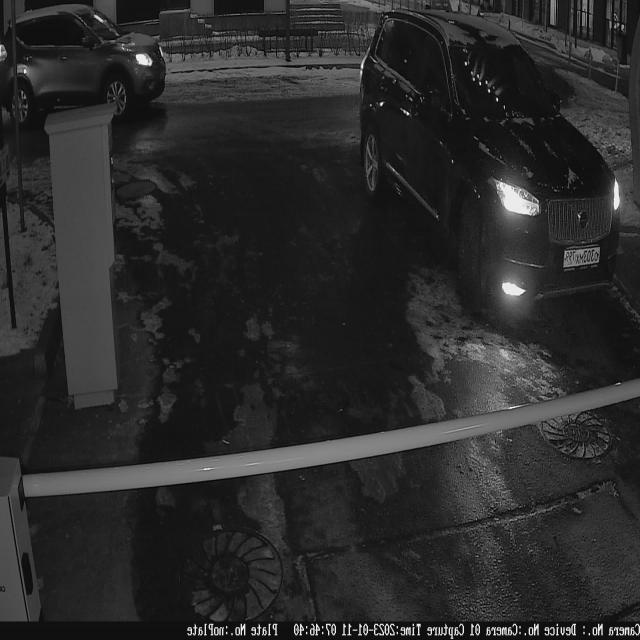car-plate-numbers: (562, 243, 607, 275)
